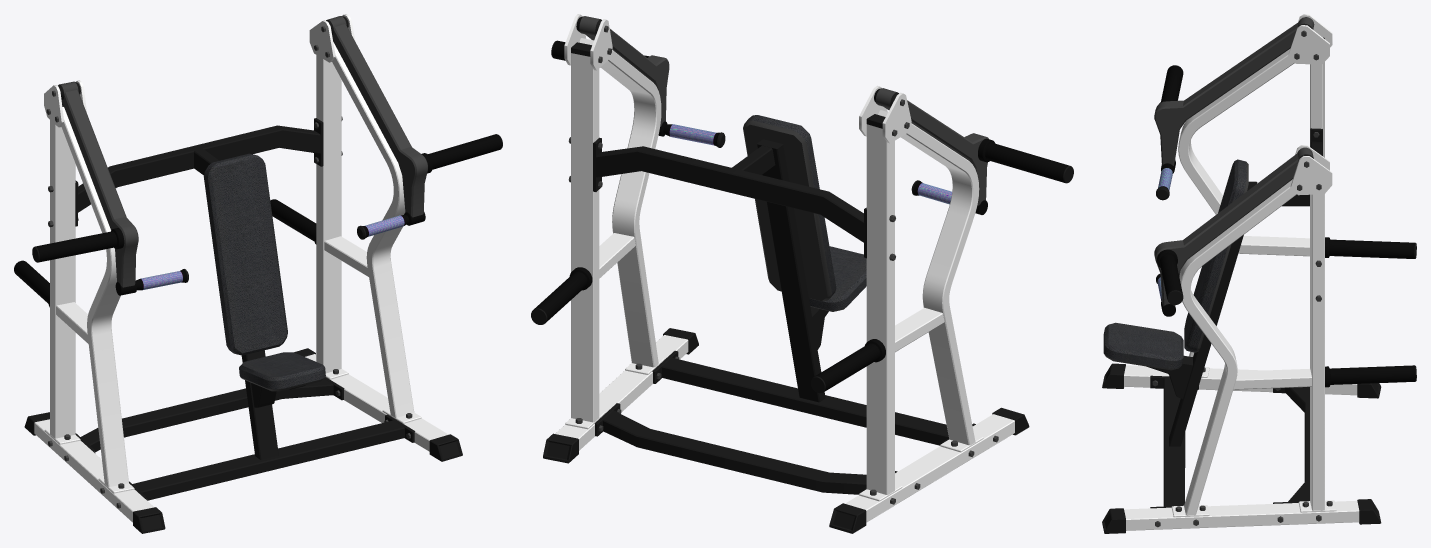
File: Trainer_2.FBX
3 renders of one model, left to right at view 1: azimuth 30°, elevation 25°; view 2: azimuth 150°, elevation 25°; view 3: azimuth 270°, elevation 25°, orthographic. The views are drawn at different scales.
Visible parts, largest first — view 1: Trainer_2, 2, 1, 3, 4, 5, 6; view 2: Trainer_2, 1, 2, 3, 6, 5; view 3: Trainer_2, 1, 2, 5, 6, 4, 3.
Part boxes in pixels (x1,y1,x2,y2): Trainer_2: [24, 14, 462, 533]; 2: [326, 16, 427, 239]; 1: [58, 81, 188, 295]; 3: [32, 228, 124, 262]; 4: [421, 134, 502, 173]; 5: [270, 199, 316, 244]; 6: [14, 260, 49, 307]; Trainer_2: [543, 14, 1029, 533]; 1: [874, 88, 988, 214]; 2: [576, 16, 725, 147]; 3: [978, 138, 1073, 183]; 6: [811, 339, 885, 393]; 5: [531, 267, 592, 324]; Trainer_2: [1102, 14, 1381, 533]; 1: [1154, 17, 1314, 200]; 2: [1154, 147, 1313, 316]; 5: [1325, 365, 1416, 387]; 6: [1325, 237, 1416, 258]; 4: [1157, 249, 1183, 305]; 3: [1159, 65, 1183, 103].
Bounding box in the file's own units: 1.89 × 1.11 × 1.44.
